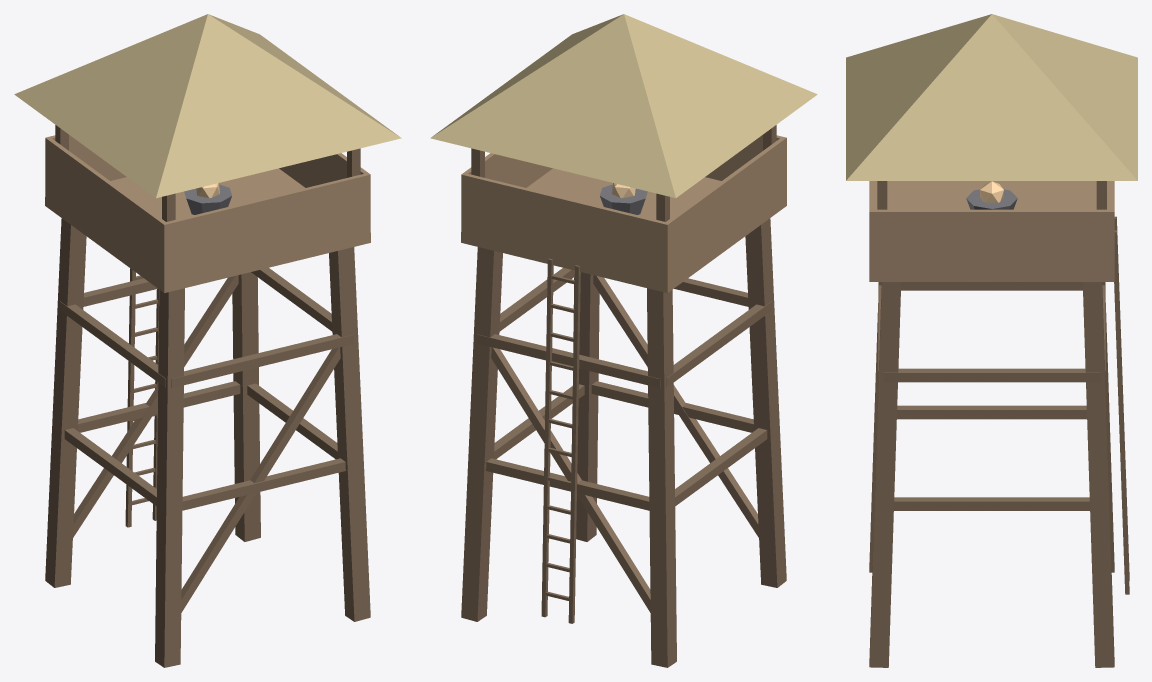
Rendered from tower.glb.
The picture shows the model from 3 angles, left to right: view 1: azimuth 30°, elevation 25°; view 2: azimuth 150°, elevation 25°; view 3: azimuth 270°, elevation 25°; orthographic projection. The views are drawn at different scales.
Visible parts, largest first — view 1: tower; view 2: tower; view 3: tower.
Part boxes in pixels (bbox=[...]): tower: bbox=[14, 14, 401, 667]; tower: bbox=[430, 14, 817, 667]; tower: bbox=[846, 14, 1137, 667].
Size of the model in its own units: 4.53 by 10.31 by 4.53.
